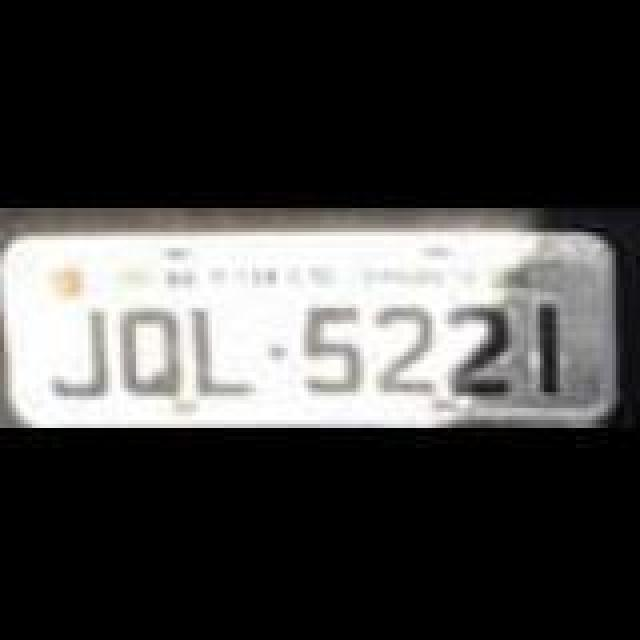1: (530, 296, 574, 400)
2: (450, 304, 526, 400), (372, 302, 436, 402)
5: (294, 302, 362, 402)
J: (44, 304, 116, 400)
L: (190, 302, 258, 402)
Q: (120, 302, 184, 402)
